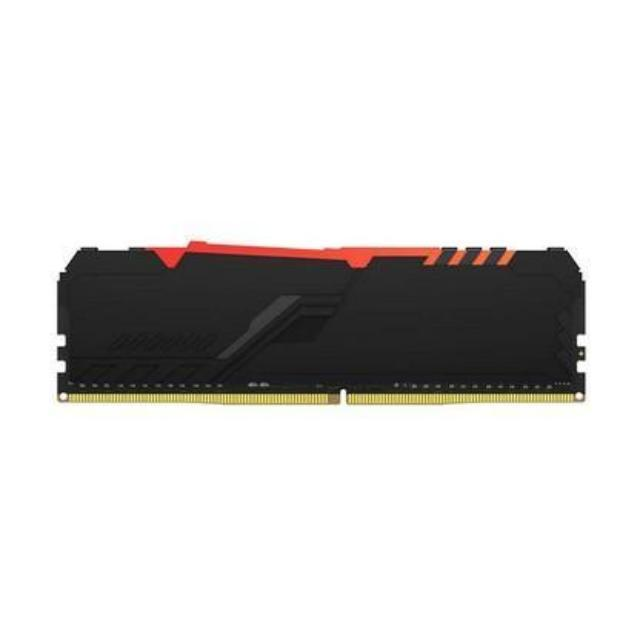RAM: (50, 230, 595, 421)
